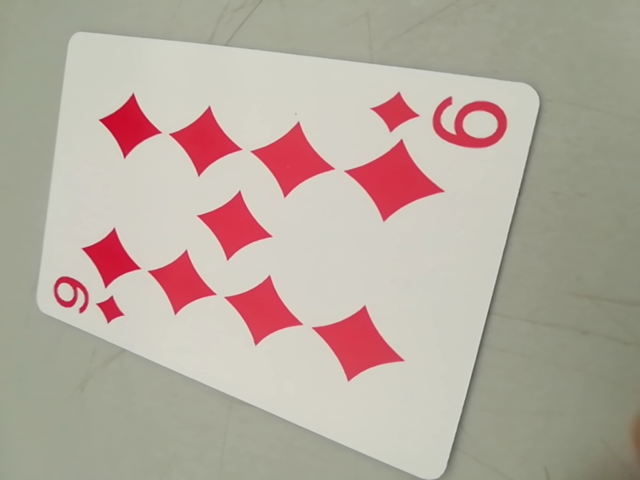fk 9: (365, 87, 512, 151), (40, 273, 136, 332)
